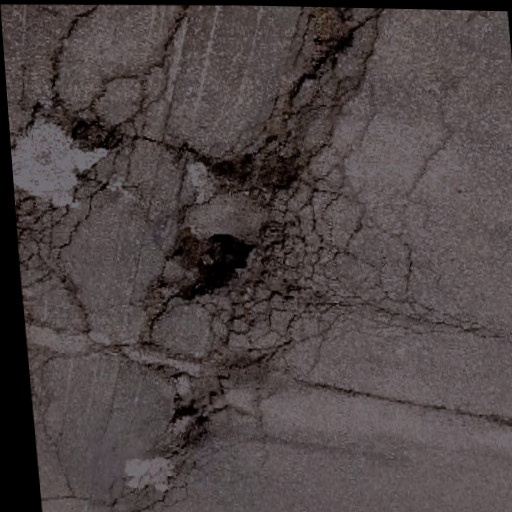pothole: (178, 224, 262, 306), (213, 148, 303, 200), (302, 7, 363, 70), (164, 392, 214, 453), (65, 108, 123, 154)
